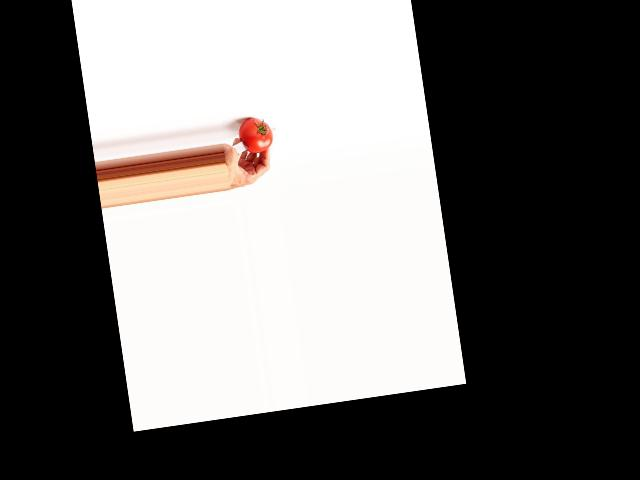tomato: (237, 115, 274, 155)
